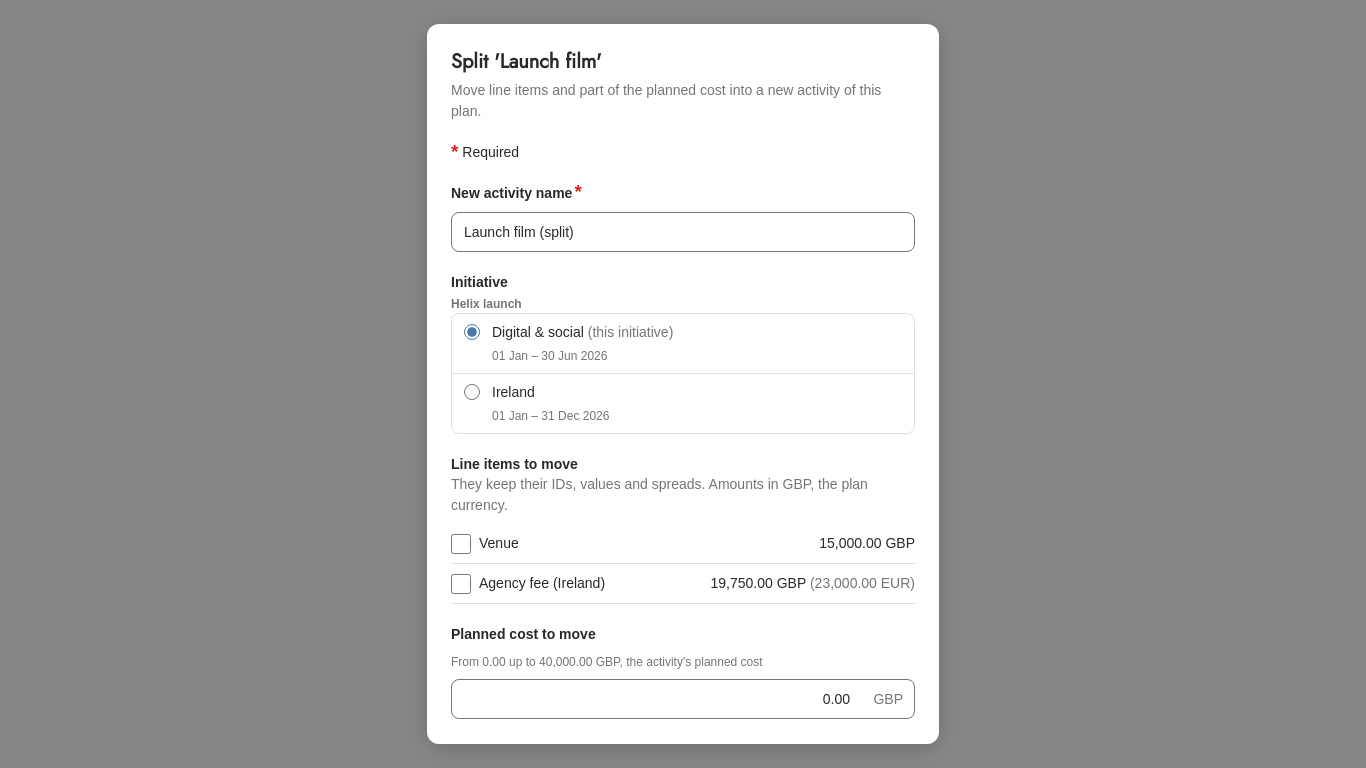
Scenario: SplitActivityDialog (016 US4, FR-026 – FR-029) › shows every problem the preview finds at once
The width and height of the screenshot is (1366, 768).
Click the checkbox labelled "Venue" at (461, 544), box [451,534,471,554]
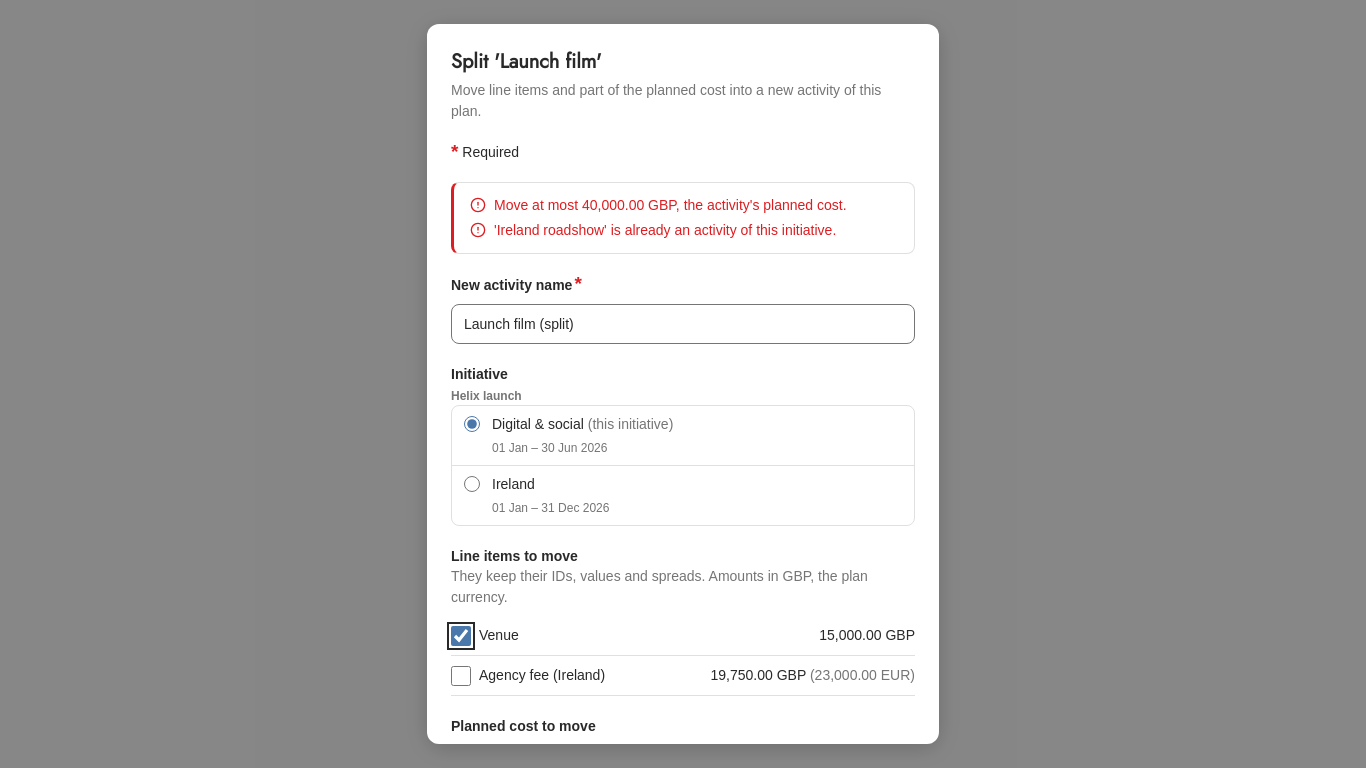
Check: the message shows "Move at most 40,000.00 GBP, the activity's planned cost.", box [494,197,847,213]
Check: the message shows "'Ireland roadshow' is already an activity of this initiative.", box [494,222,836,238]
